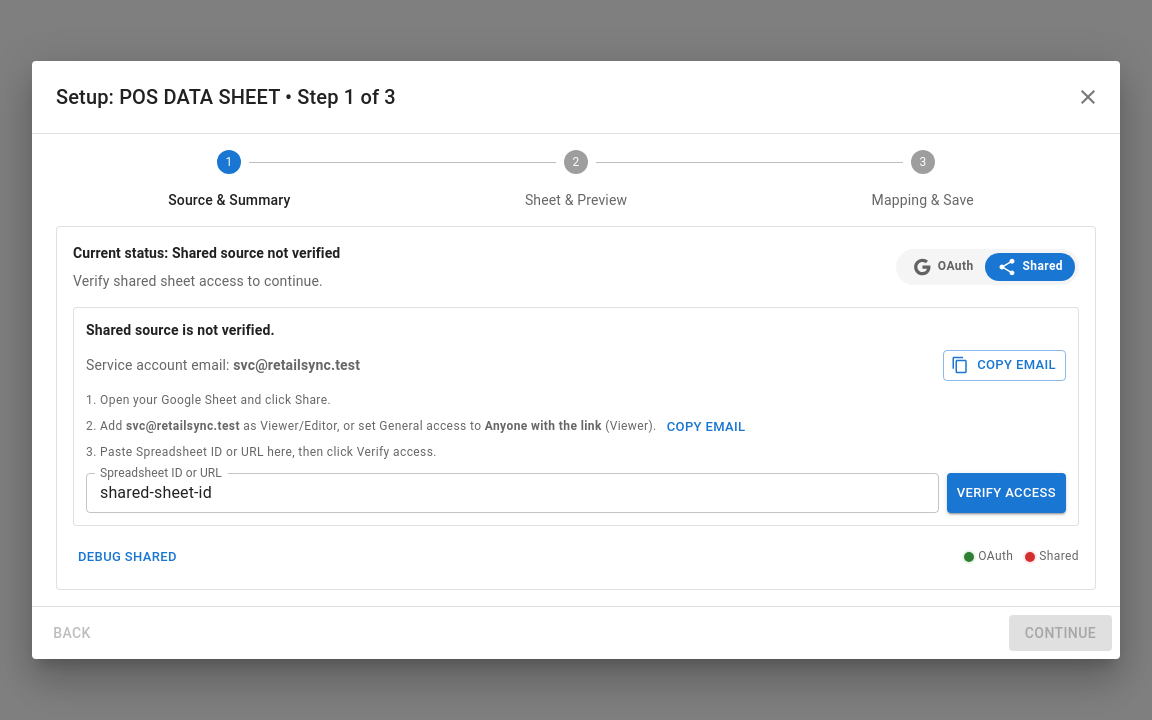
it: GoogleSheetsSetupInline › shows friendly tab_not_found message when verify returns tab_not_found
Type "1pIY9TZVmfg__BxYqsEMZn71jj1N23enWl4uFLUTplFM" into the field labelled "Spreadsheet ID or URL" at (512, 493), box [86,473,939,513]
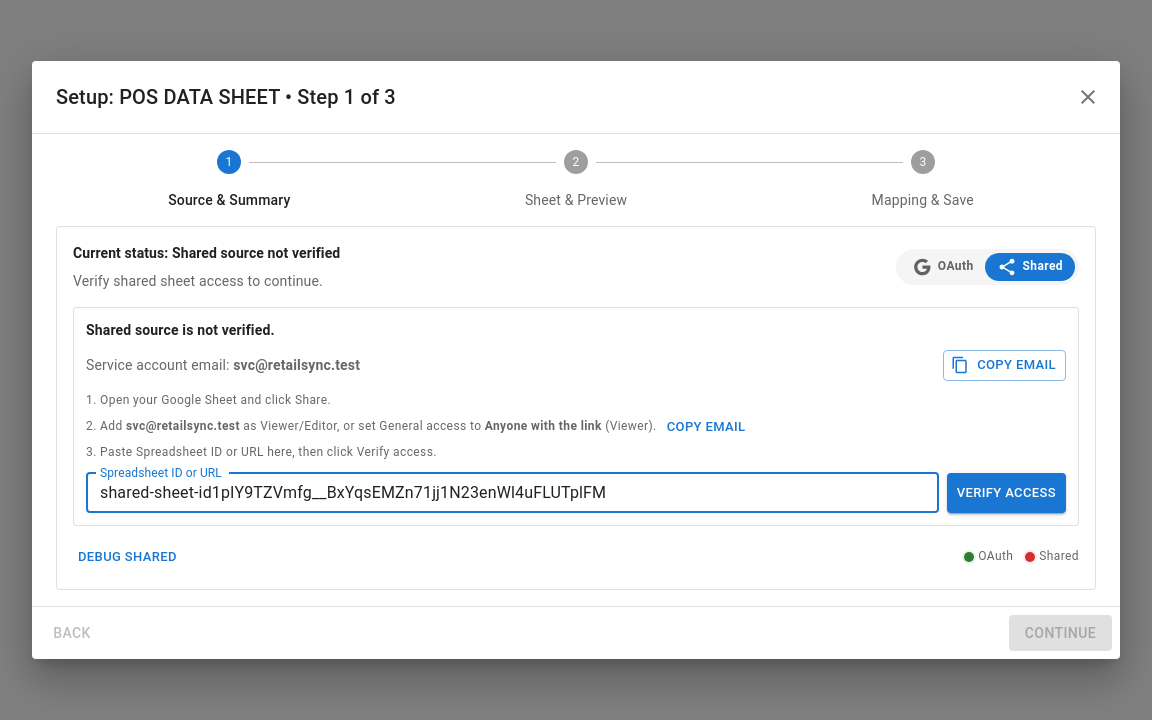
Click the button "Verify access" at (1006, 493), box [947,473,1066,513]
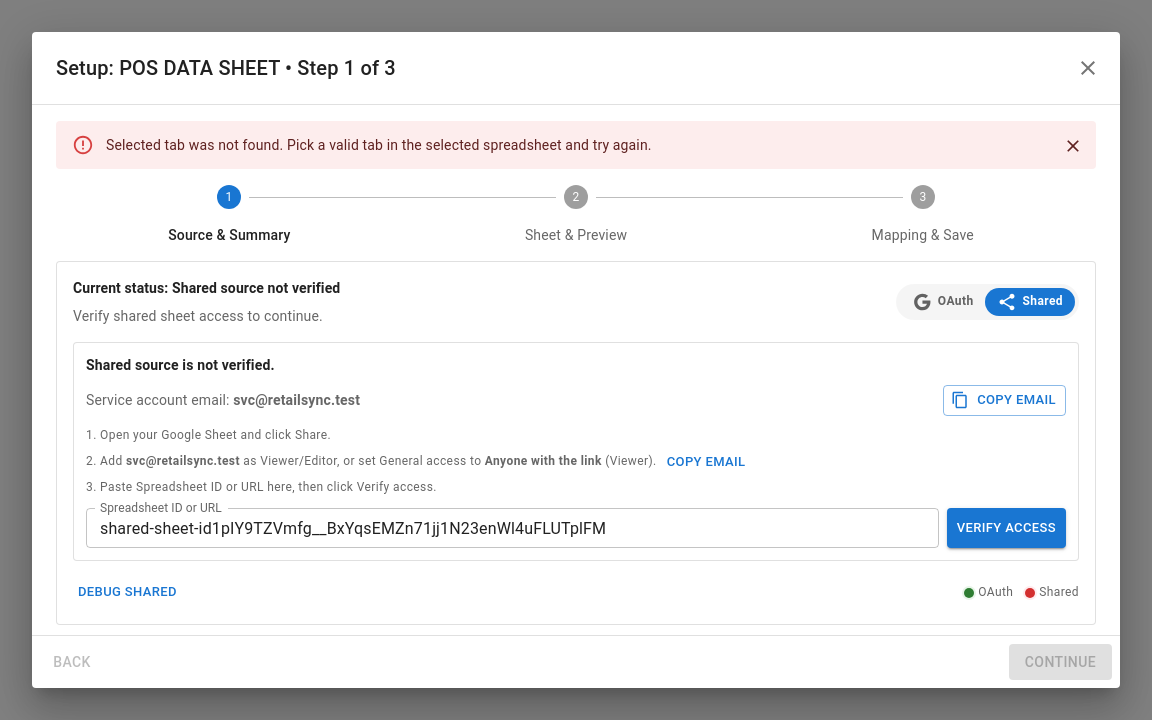
Check: the text "Selected tab was not found. Pick a valid tab in the selected spreadsheet and try again." is shown, box [106,137,652,153]
